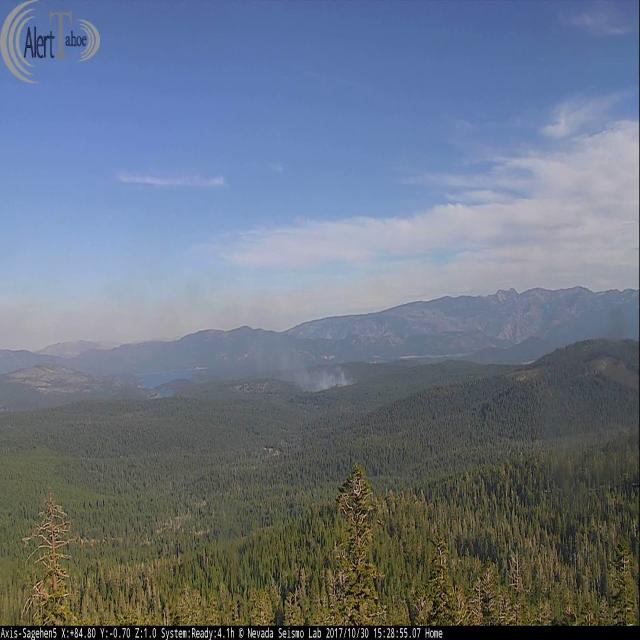smoke: (85, 279, 368, 406)
